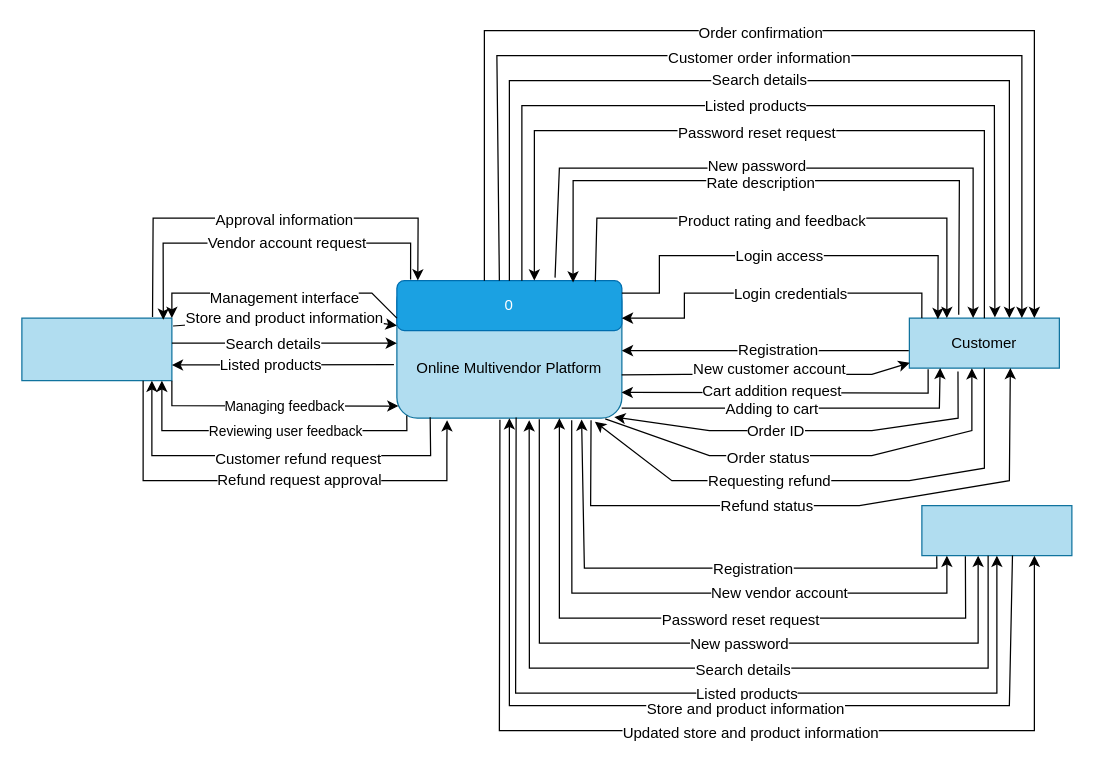
The diagram is 1094 pixels wide and 763 high, and some of its shapes have lost their labels. Here are the shapes that lost their labels. From the top down, the centre of each, then its label:
At (x=96, y=349): "Administrator".
At (x=996, y=530): "Vendor".
